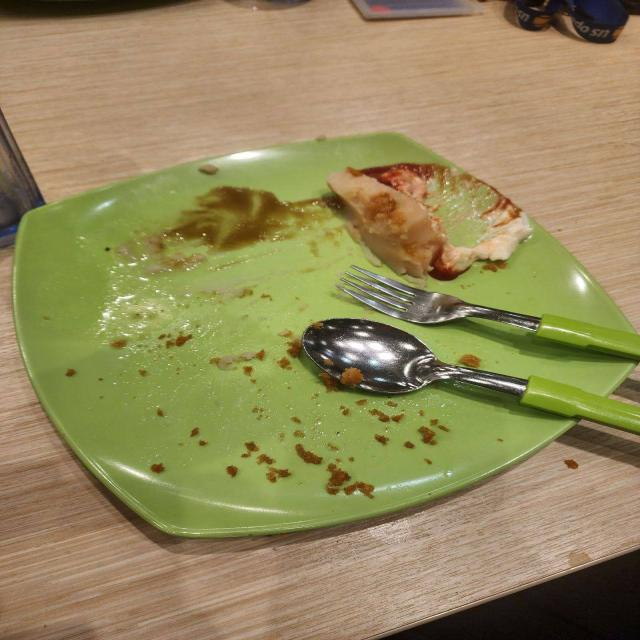Potato: (328, 168, 446, 278)
